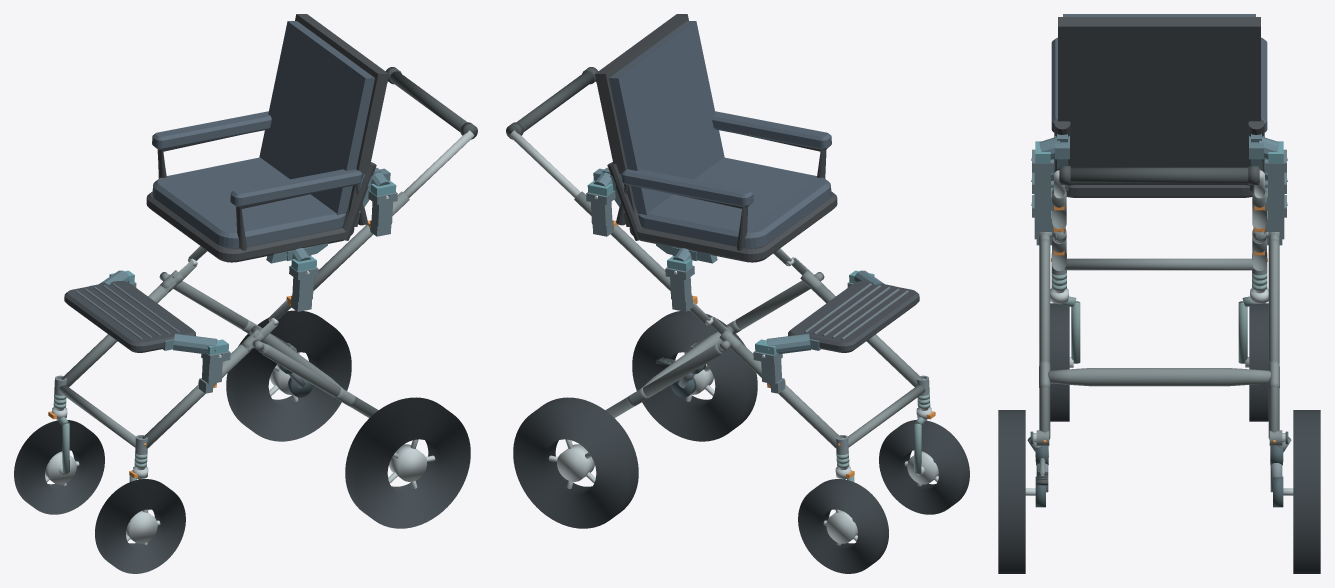
Rendered from S08_w550_state1_wheel_L.glb.
3 renders of one model, left to right at view 1: azimuth 30°, elevation 25°; view 2: azimuth 150°, elevation 25°; view 3: azimuth 270°, elevation 25°, orthographic. The views are drawn at different scales.
Parts seen in each view (by area): view 1: S08_Cabin, RL_tire.002, RR_tire.002, FL_tire.002, FR_tire.002, S08_Cabin_Footrest, V46_rear_leg_-1.003, main_lower_-1.003, S08_Cabin_Footrest_LowDocks, round_handle.002, main_upper_-1.003, main_lower_1.003 (+10 smaller); view 2: S08_Cabin, RR_tire.002, RL_tire.002, FR_tire.002, FL_tire.002, S08_Cabin_Footrest, V46_rear_leg_1.003, main_lower_1.003, S08_Cabin_Footrest_LowDocks, round_handle.002, main_upper_1.003, V46_rear_leg_-1.003 (+10 smaller); view 3: S08_Cabin, RL_tire.002, RR_tire.002, V46_rearbar.003, round_handle.002, front_fixed_round_tube.002, FL_tire.002, FR_tire.002, V46_rear_leg_1.003, V46_rear_leg_-1.003, S08_Cabin_HighDocks, Universal_Cabin_Receiver_H_1 (+7 smaller).
Boxes of the visible parts, x1,y1,x2,y2 form: S08_Cabin: (146, 14, 388, 263); RL_tire.002: (345, 397, 470, 528); RR_tire.002: (226, 310, 351, 441); FL_tire.002: (95, 479, 185, 573); FR_tire.002: (14, 420, 104, 514); S08_Cabin_Footrest: (64, 281, 195, 352); V46_rear_leg_-1.003: (260, 344, 378, 417); main_lower_-1.003: (142, 344, 252, 448); S08_Cabin_Footrest_LowDocks: (89, 270, 228, 357); round_handle.002: (390, 71, 476, 138); main_upper_-1.003: (313, 191, 409, 290); main_lower_1.003: (61, 282, 175, 386); S08_Cabin: (595, 14, 837, 263); RR_tire.002: (513, 397, 638, 528); RL_tire.002: (632, 310, 757, 441); FR_tire.002: (798, 479, 888, 573); FL_tire.002: (879, 420, 969, 514); S08_Cabin_Footrest: (788, 281, 919, 352); V46_rear_leg_1.003: (605, 344, 723, 417); main_lower_1.003: (731, 344, 841, 448); S08_Cabin_Footrest_LowDocks: (755, 270, 894, 357); round_handle.002: (507, 71, 593, 138); main_upper_1.003: (574, 191, 670, 290); V46_rear_leg_-1.003: (690, 280, 810, 349); S08_Cabin: (1051, 14, 1267, 197); RL_tire.002: (998, 410, 1025, 573); RR_tire.002: (1293, 410, 1320, 573); V46_rearbar.003: (1048, 368, 1270, 386); round_handle.002: (1059, 167, 1259, 182); front_fixed_round_tube.002: (1065, 258, 1253, 270); FL_tire.002: (1050, 303, 1069, 421); FR_tire.002: (1249, 303, 1268, 421); V46_rear_leg_1.003: (1268, 239, 1279, 439); V46_rear_leg_-1.003: (1039, 239, 1050, 439); S08_Cabin_HighDocks: (1031, 136, 1287, 162); Universal_Cabin_Receiver_H_1: (1265, 149, 1286, 210).
Size of the model in its own units: 1.19 by 1.31 by 0.7071.
